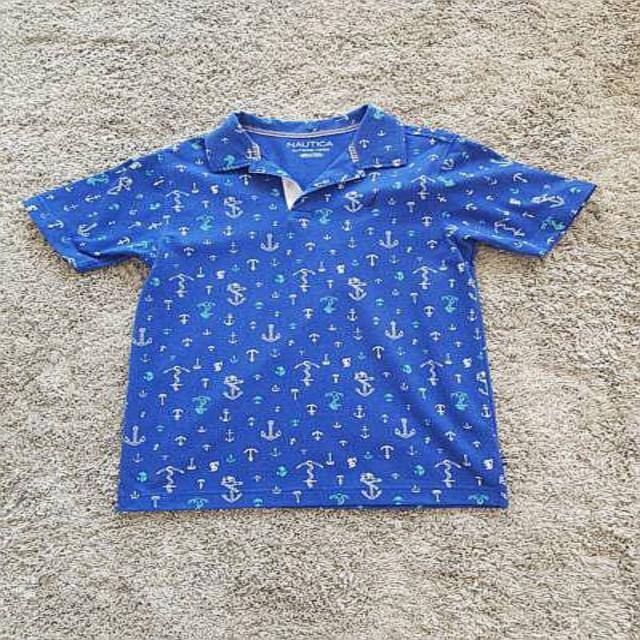T_SHIRT: (14, 89, 599, 527)
